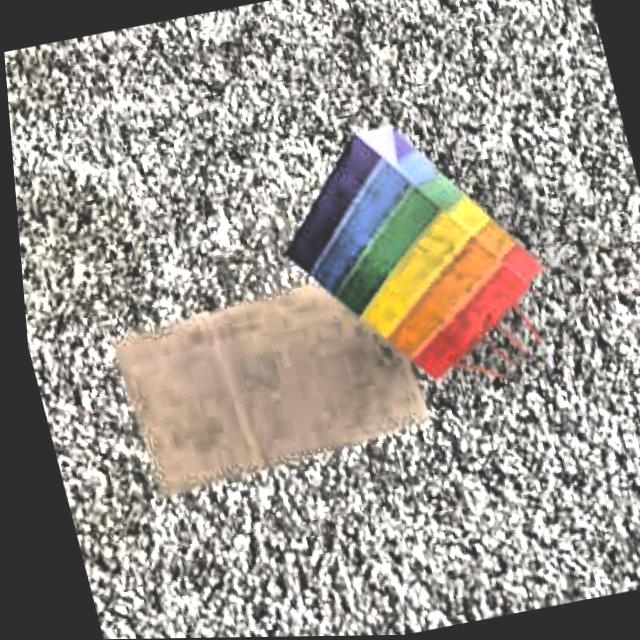Paper-bag: (245, 95, 574, 436), (76, 254, 446, 506)
